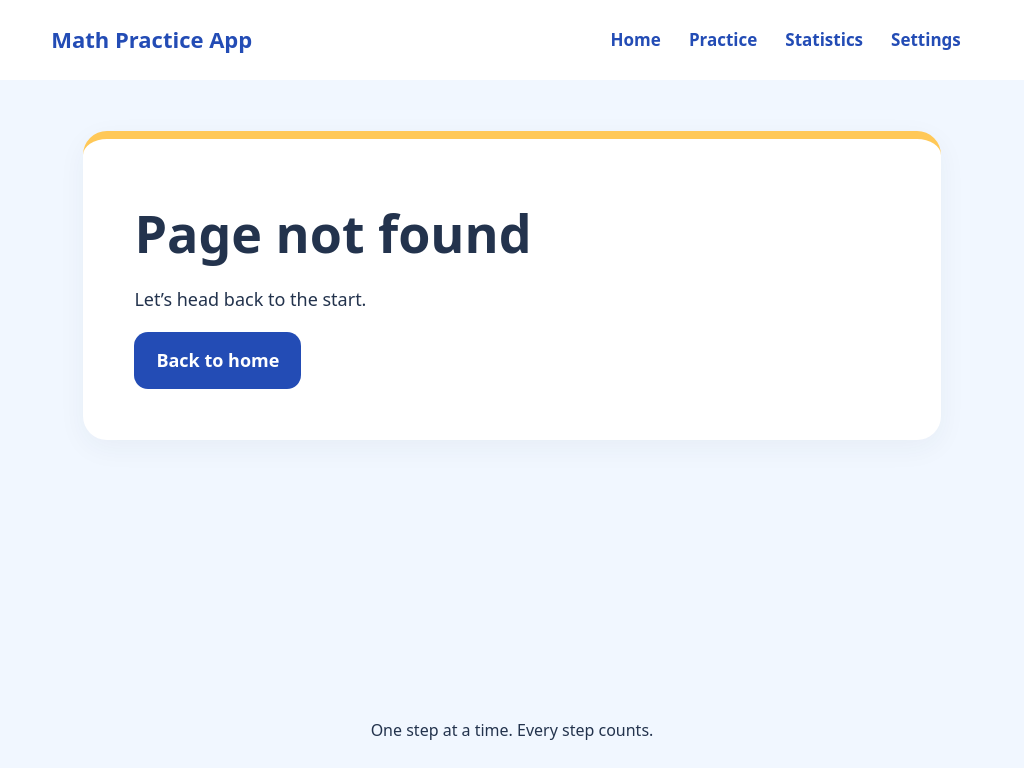
Test: application shell › lets students return home from an unknown route
Expected: the heading "Page not found" is shown, [134,197,532,268]
Click the link "Back to home".
click(218, 360)  # box [134,332,301,389]
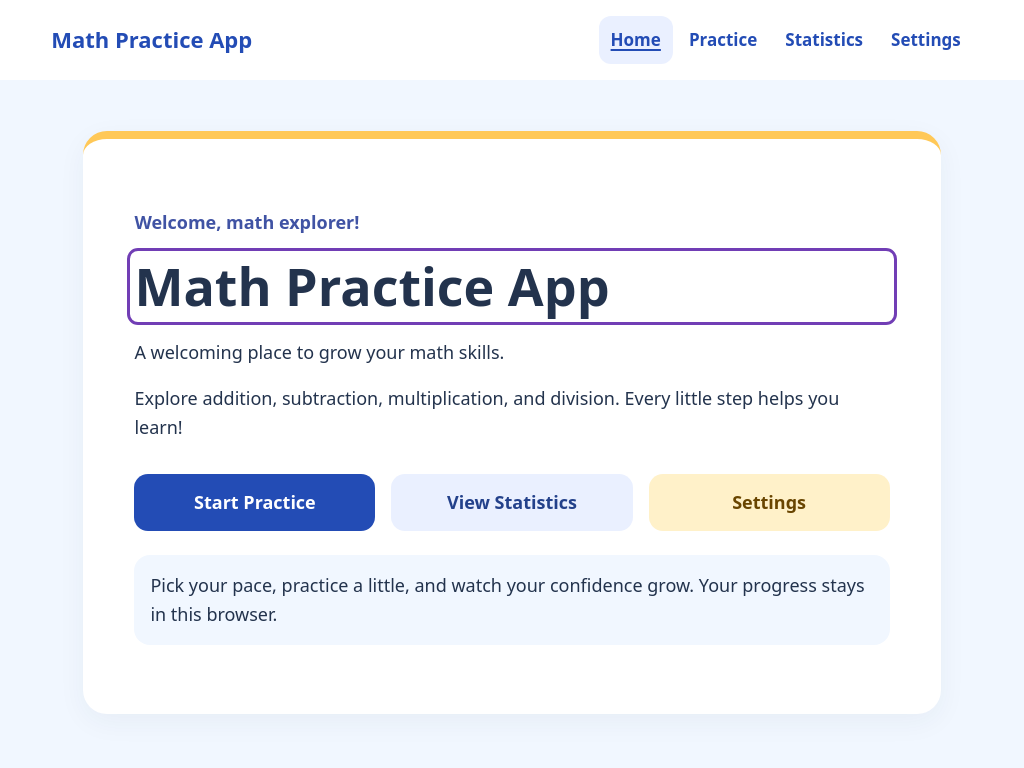
Now the heading "Math Practice App" is shown, box [134,250,610,321]
Now the heading "Page not found" is gone
